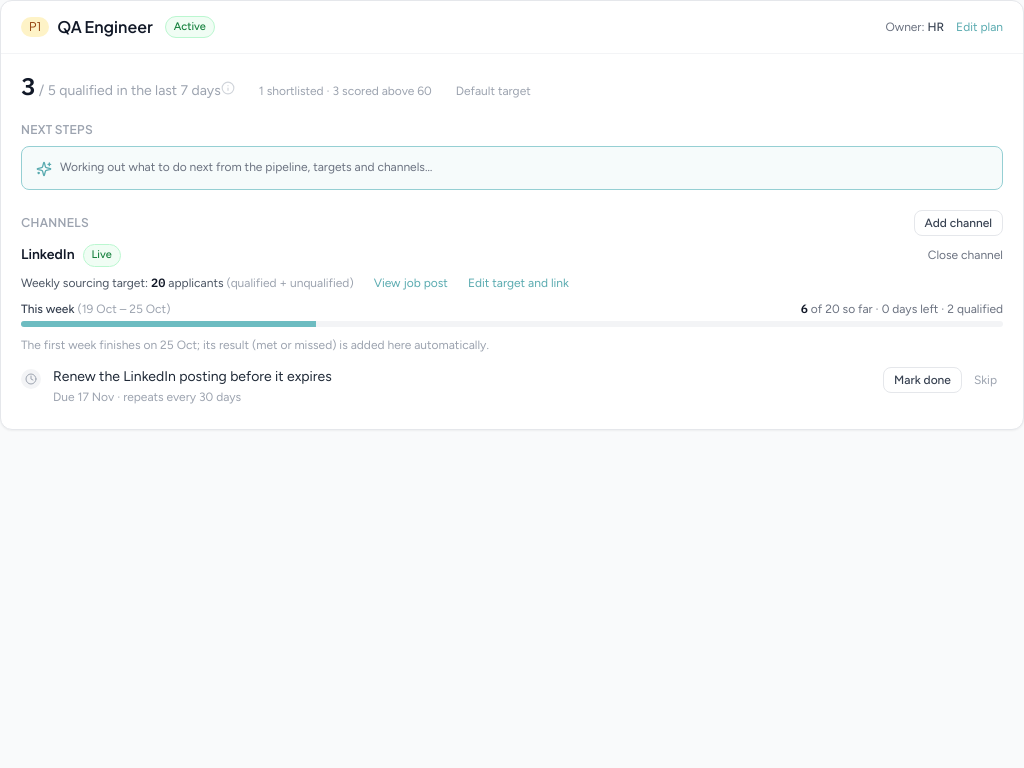
Scenario: SourcingPlanPanel — doing things › Mark done sends an attestation for that commitment, then reloads the plan
Click the button "Mark done": [922, 380] box [883,366,962,392]
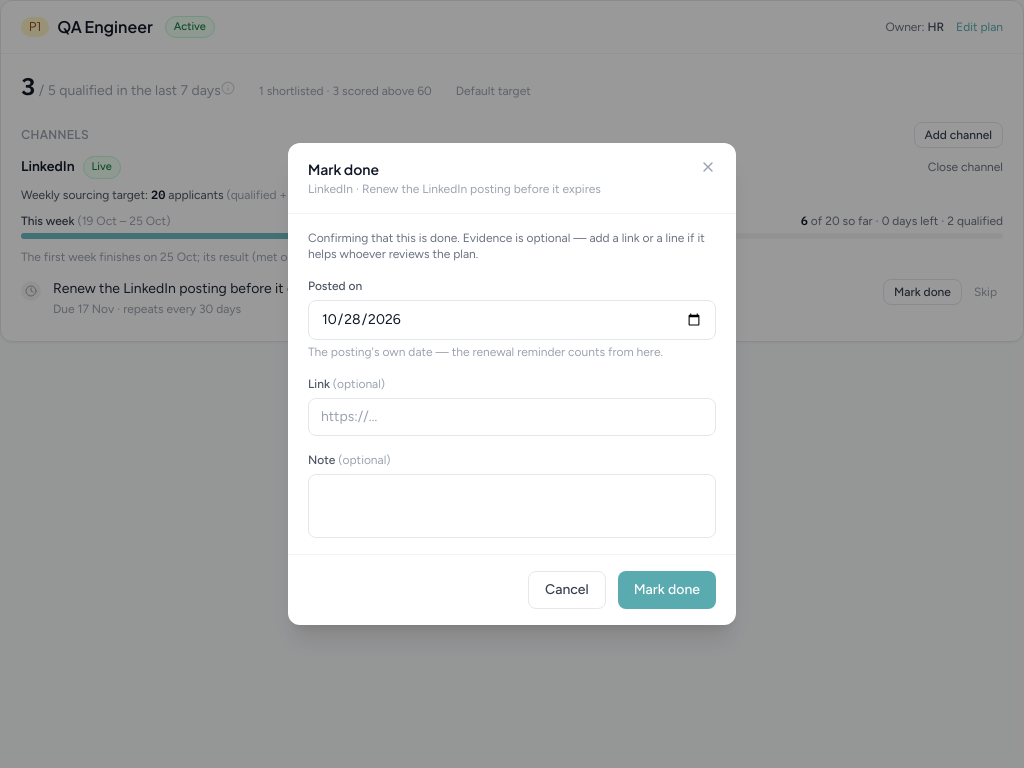
Click the button "Mark done": [667, 590] box [618,571,716,609]
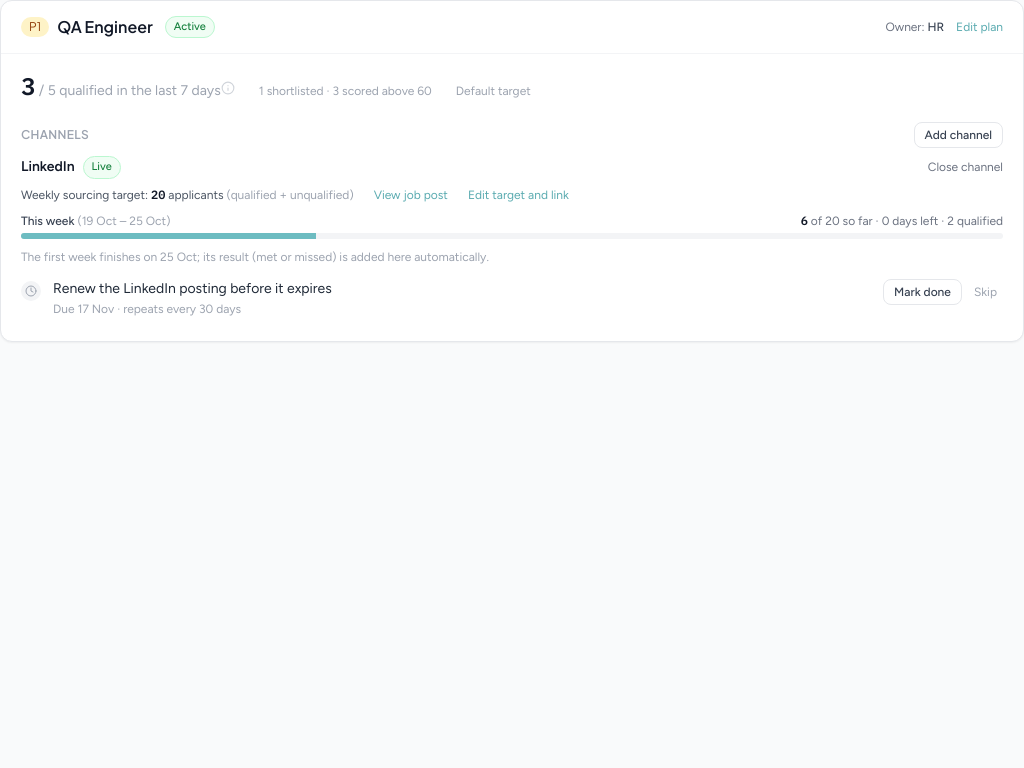
Now the dialog is gone
